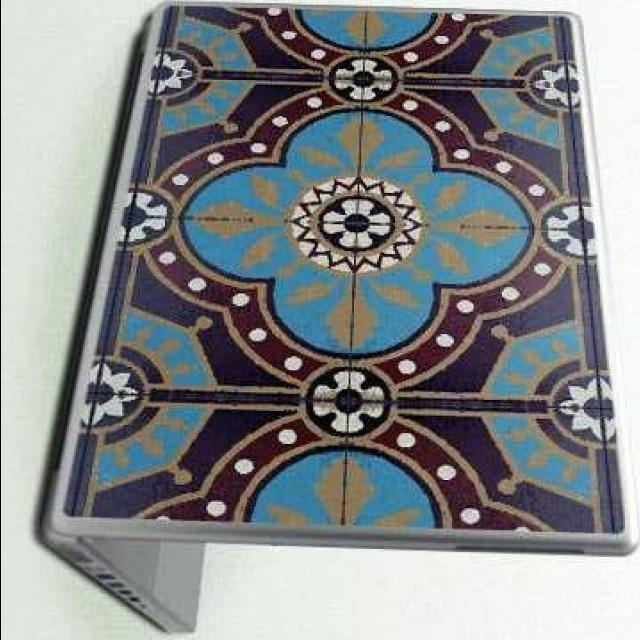laptop: (41, 1, 636, 636)
